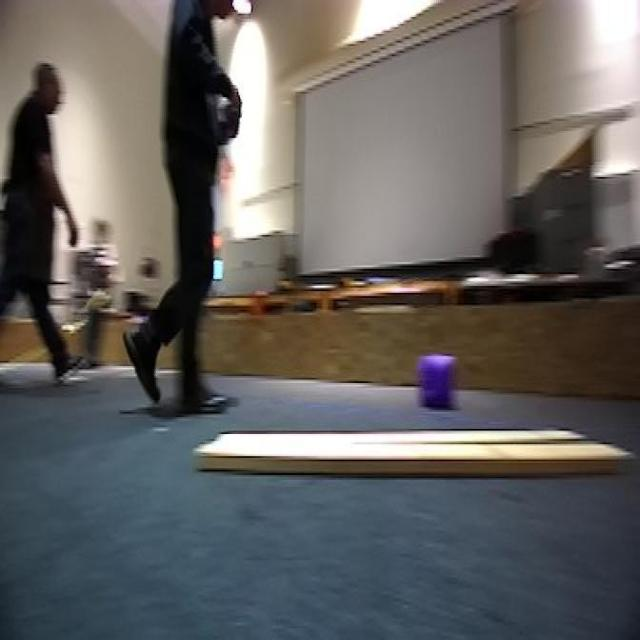frc_cube: (416, 354, 458, 410)
